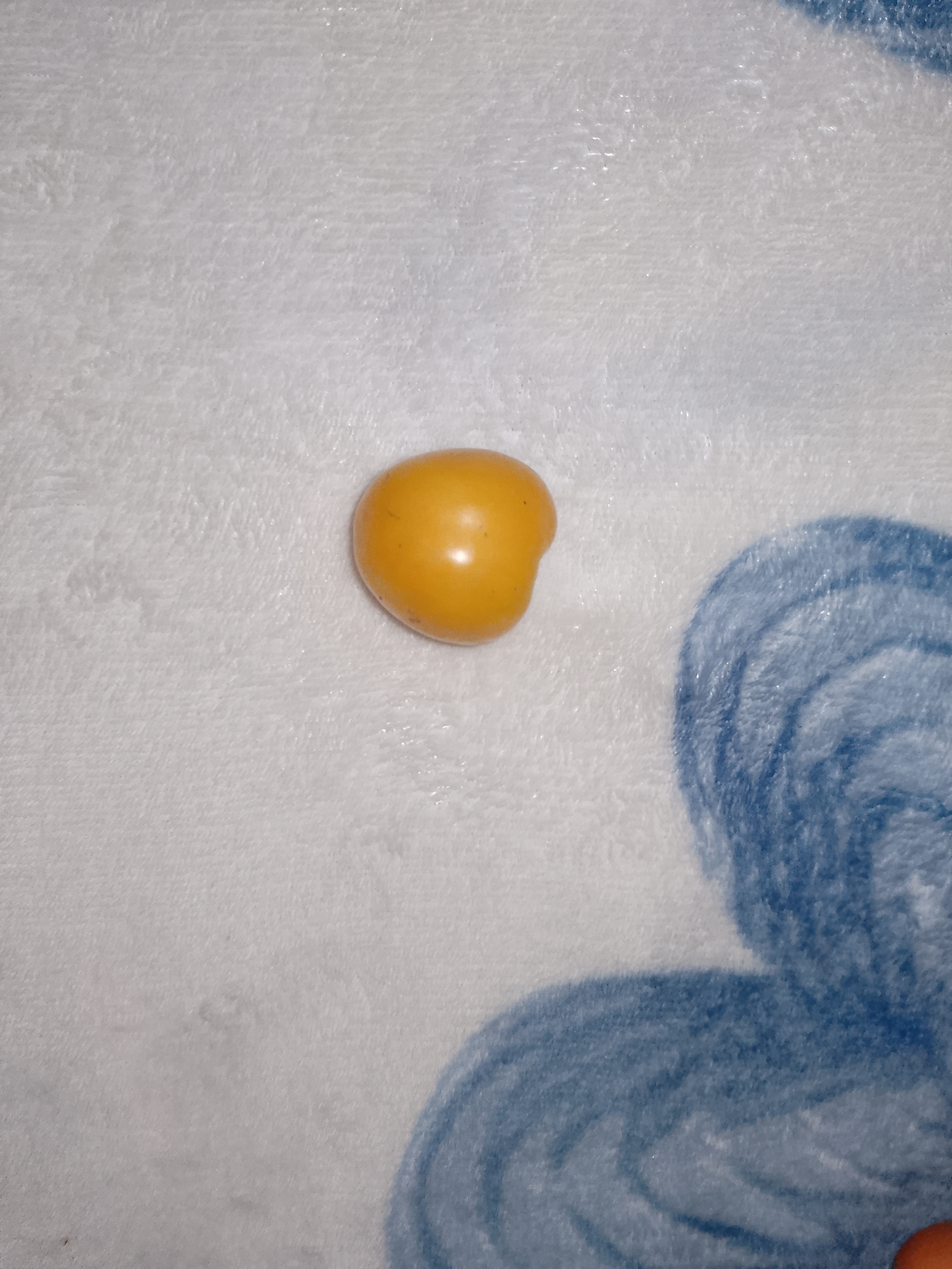Ripe: (304, 392, 646, 698)
